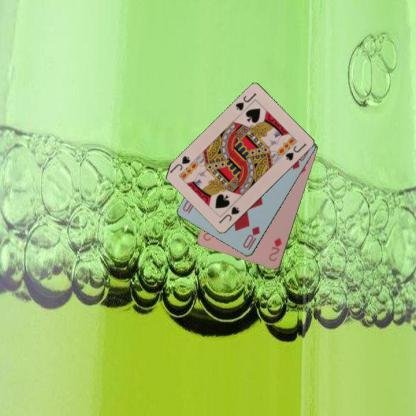10d: (240, 224, 262, 251)
2d: (266, 235, 284, 263)
Js: (233, 90, 258, 112), (216, 204, 241, 225)
